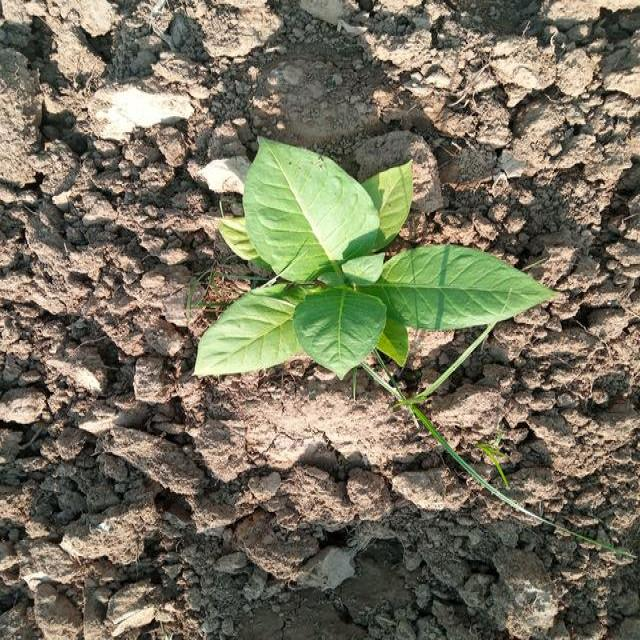crop: (210, 144, 551, 412)
